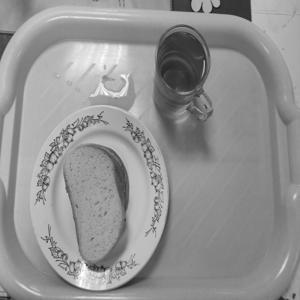bread: (50, 135, 142, 274)
tea: (147, 11, 222, 131)
